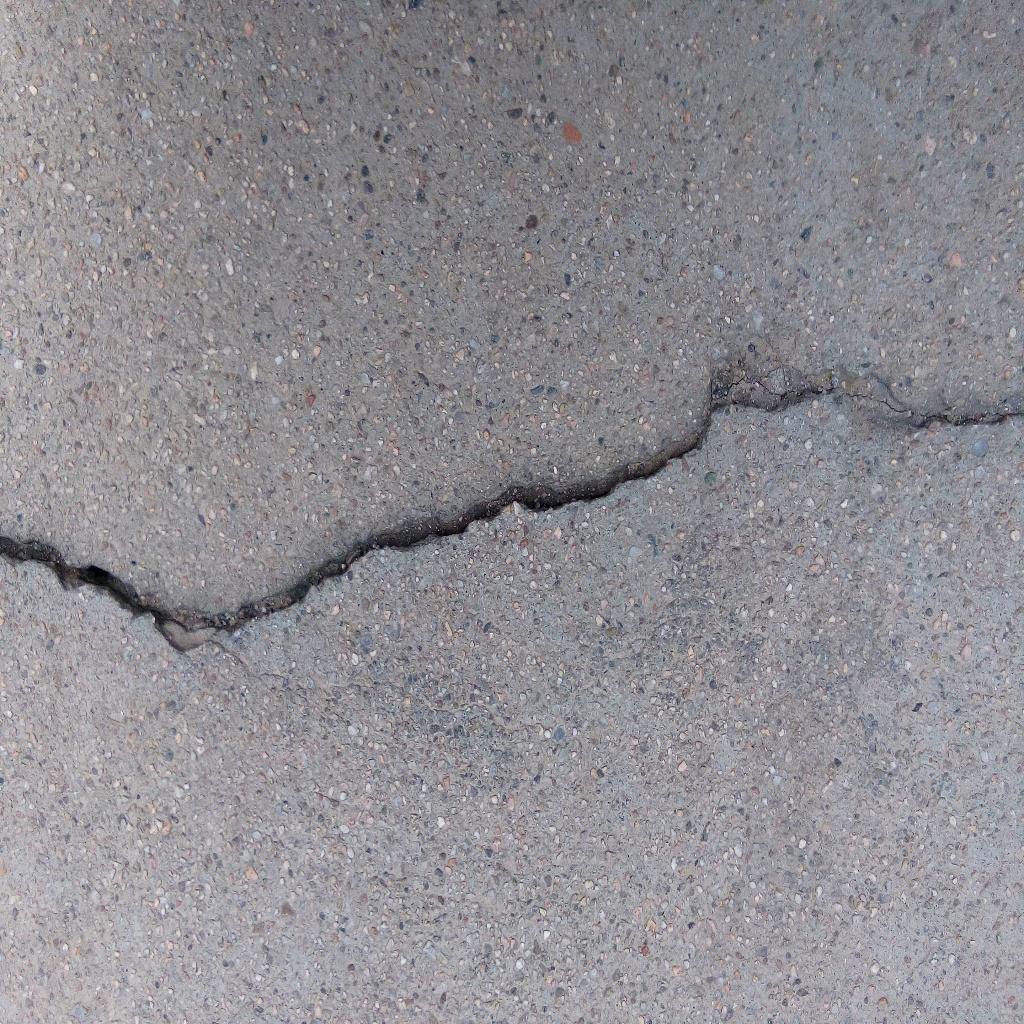Crack: (1, 387, 1024, 637)
